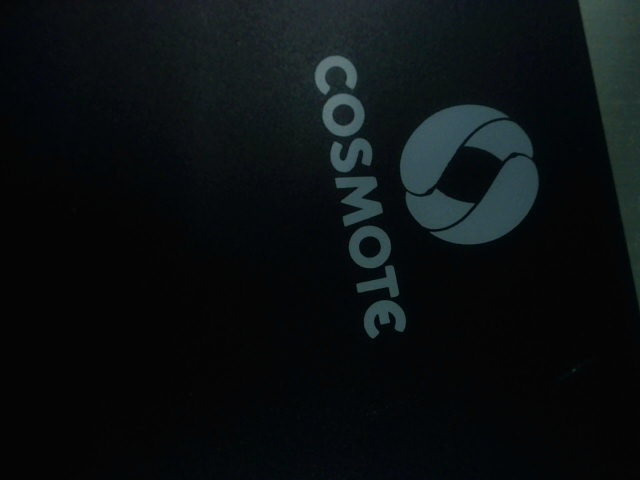AU_COSMOTE: (310, 52, 543, 342)
